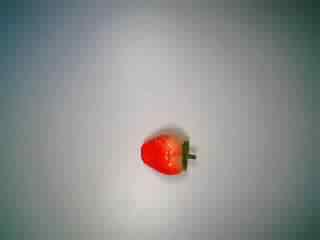strawberry: (135, 124, 198, 182)
